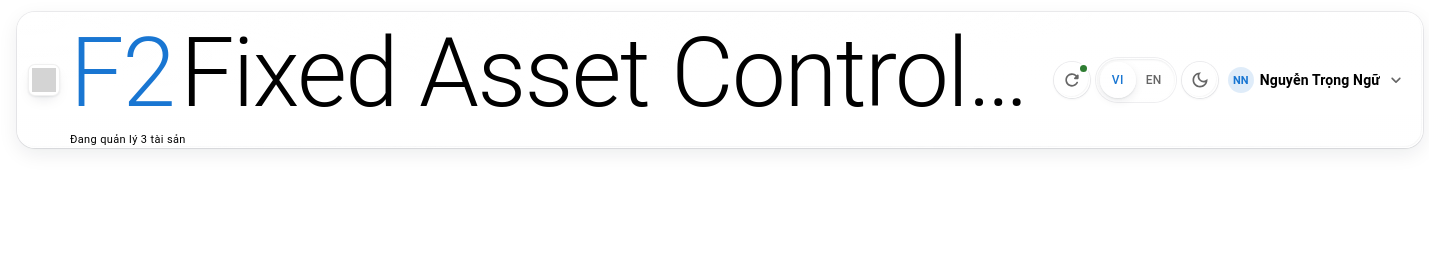
Test: Header › with a user: name on the chip, initials, "account · Dept / Section" in the menu (nulls dropped)
The width and height of the screenshot is (1429, 268).
Expected: the text with test id "header-account" reads "Nguyễn Trọng Ngữ", [1260,72,1380,88]
Expected: the text with test id "header-avatar" reads "NN", [1233,74,1248,87]
Click the button with aria-label "Menu tài khoản: Nguyễn Trọng Ngữ (22847)": [1318, 80] box [1224,63,1412,97]
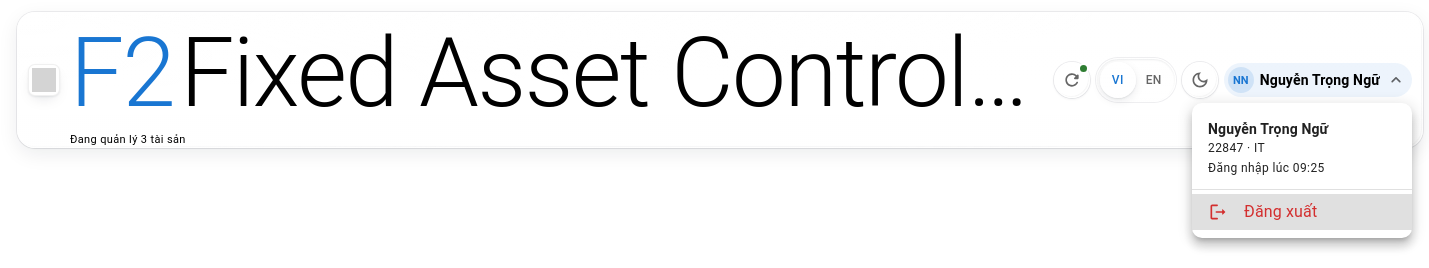
Expected: the text with test id "header-account-org" reads "22847 · IT", [1208,141,1265,155]
